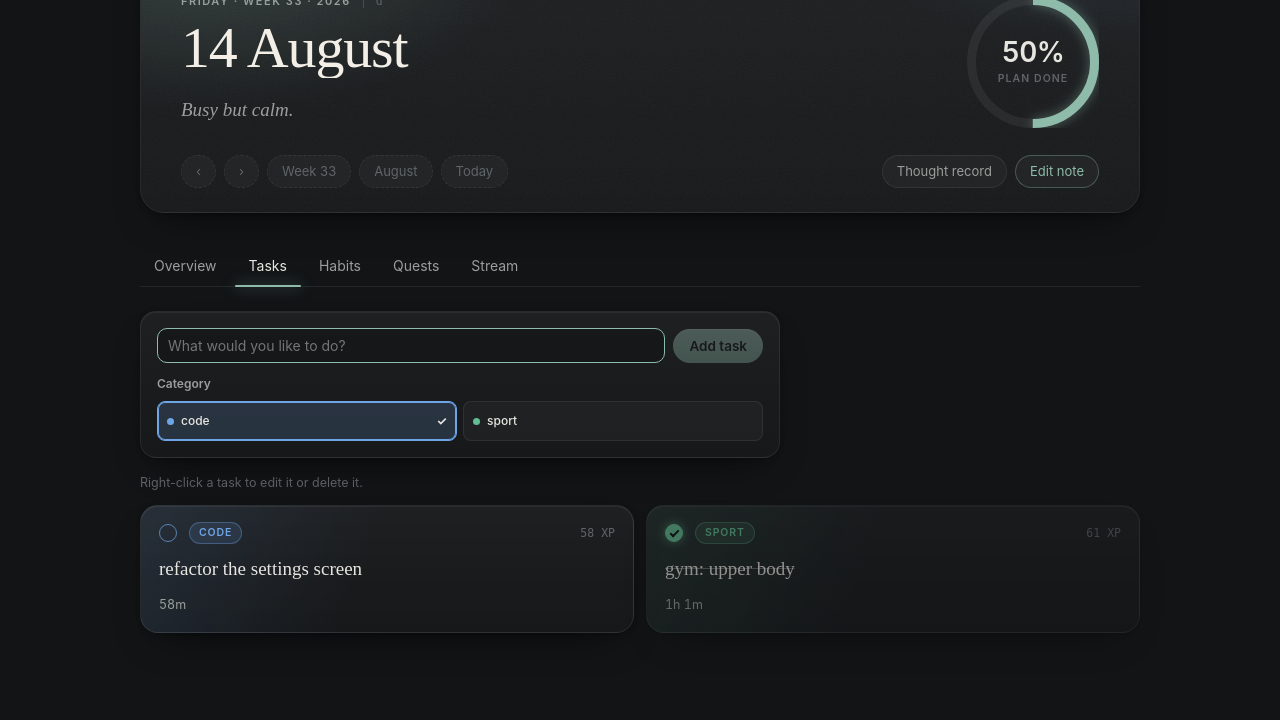
Scenario: the thought-record wizard › asks before throwing away what was typed
Click the button with test id "hero-record". click: x=944, y=172
box: 882,155 -> 1007,188
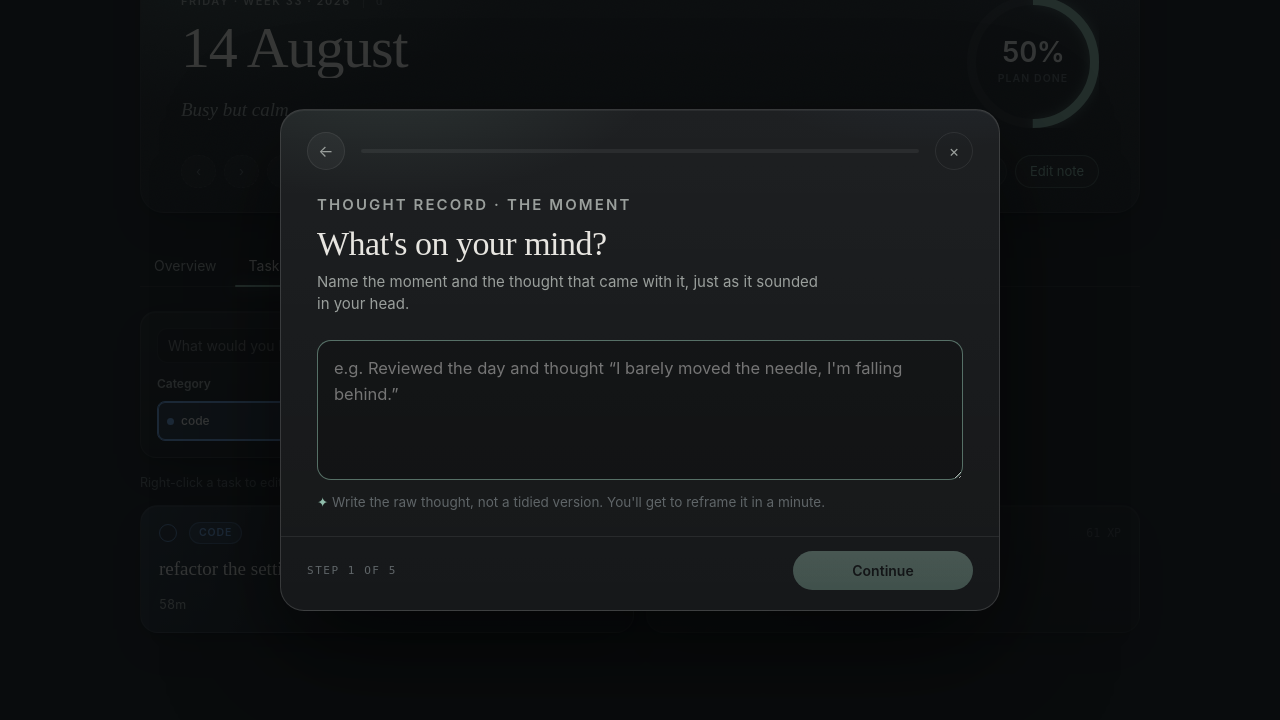
Type "something" into the text box with test id "wizard-situation". click: x=640, y=410
box: 317,340 -> 963,480
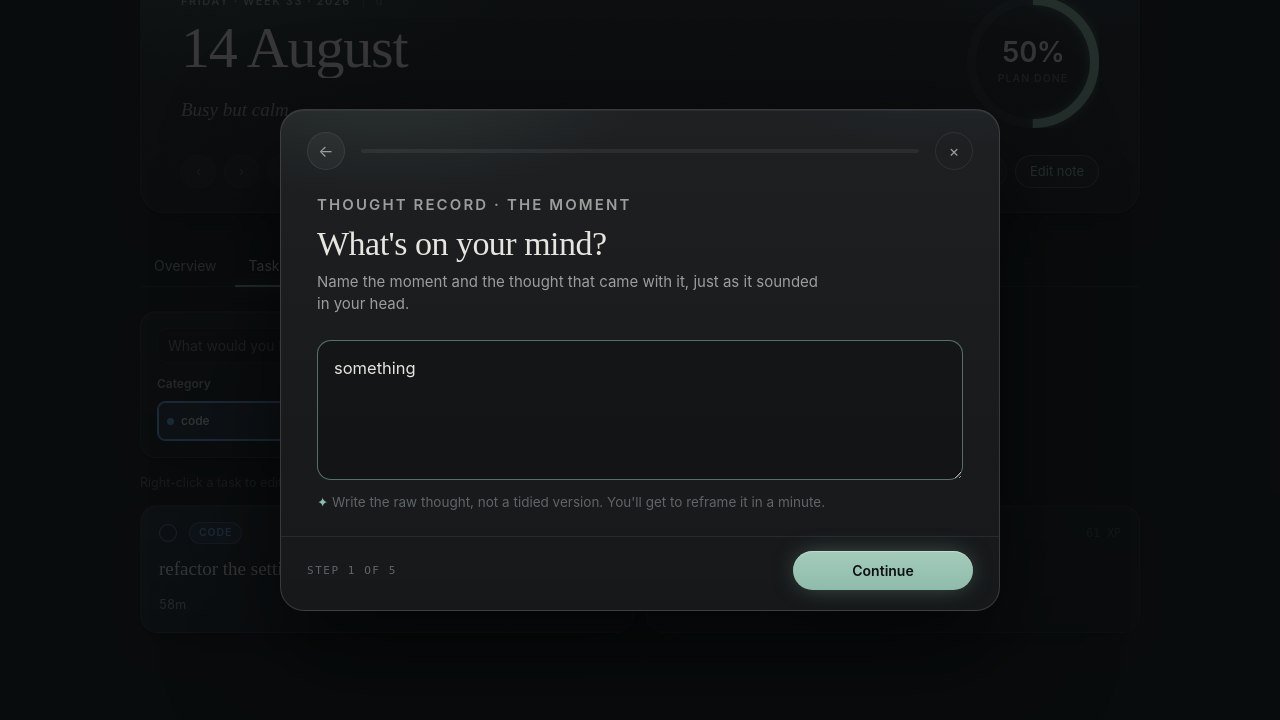
Press Escape
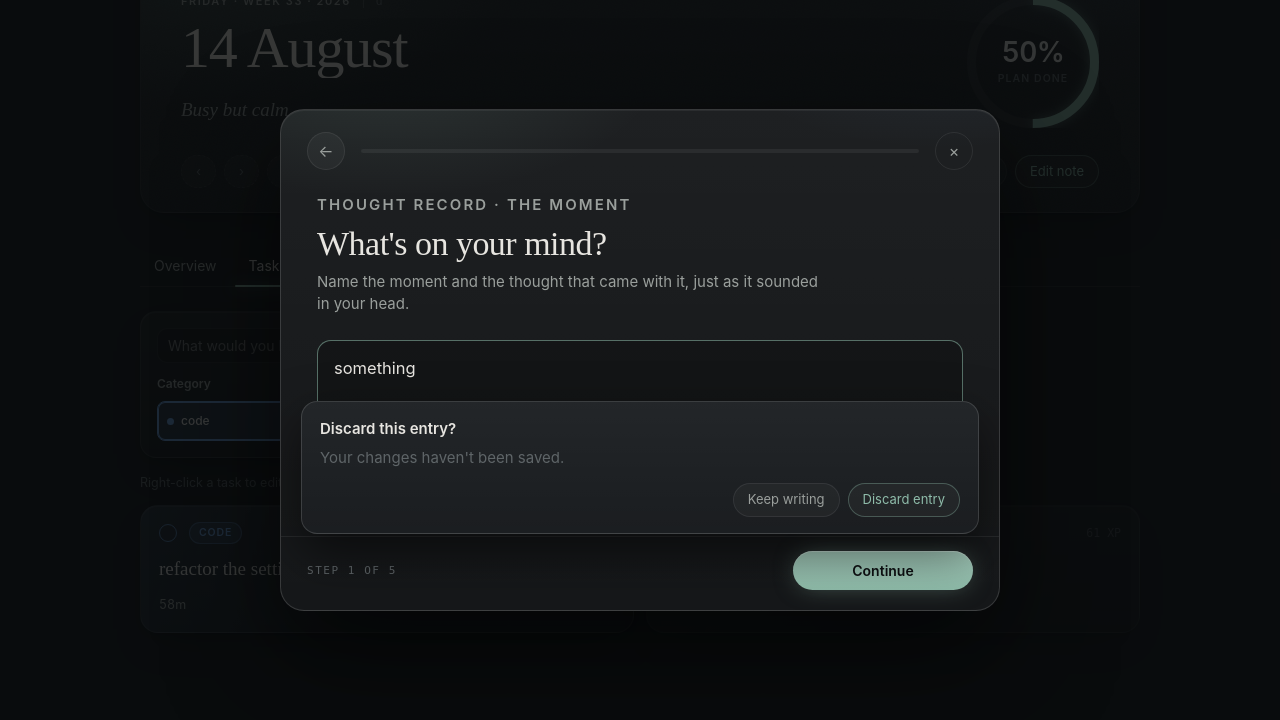
Check: the dialog "Discard this entry?" is shown, box 301,401 -> 979,534
Click the button with test id "wizard-discard". click: x=904, y=500
box: 848,483 -> 960,517
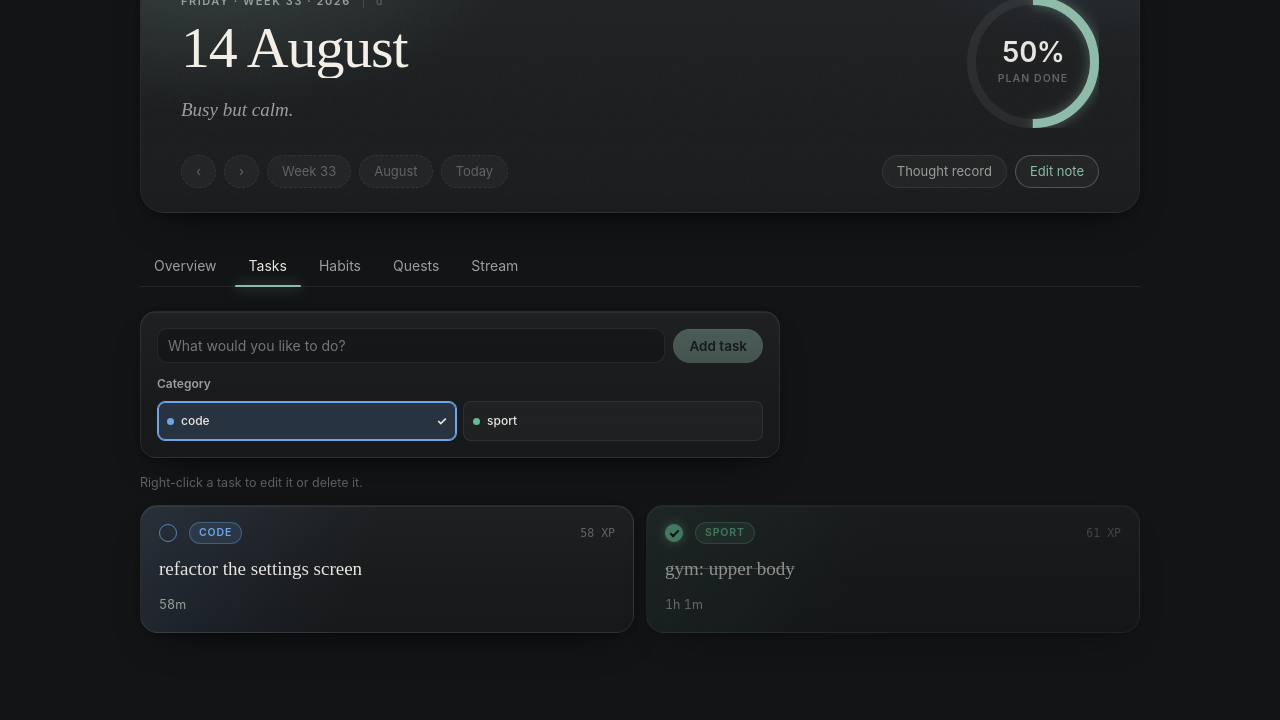
Check: the element with test id "thought-wizard" is gone
